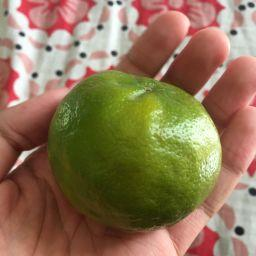Unripe: (47, 71, 221, 229)
